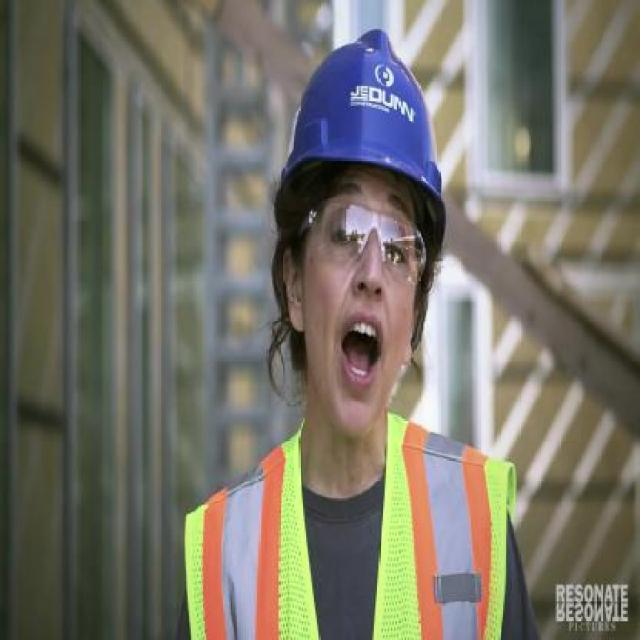Vest: (180, 407, 518, 638)
helmet: (272, 26, 448, 263)
person: (169, 17, 542, 640)
